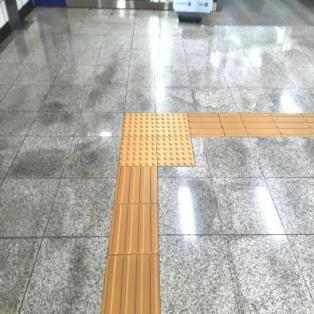Podoctatil: (102, 95, 206, 195), (101, 170, 160, 313), (191, 114, 313, 138)
